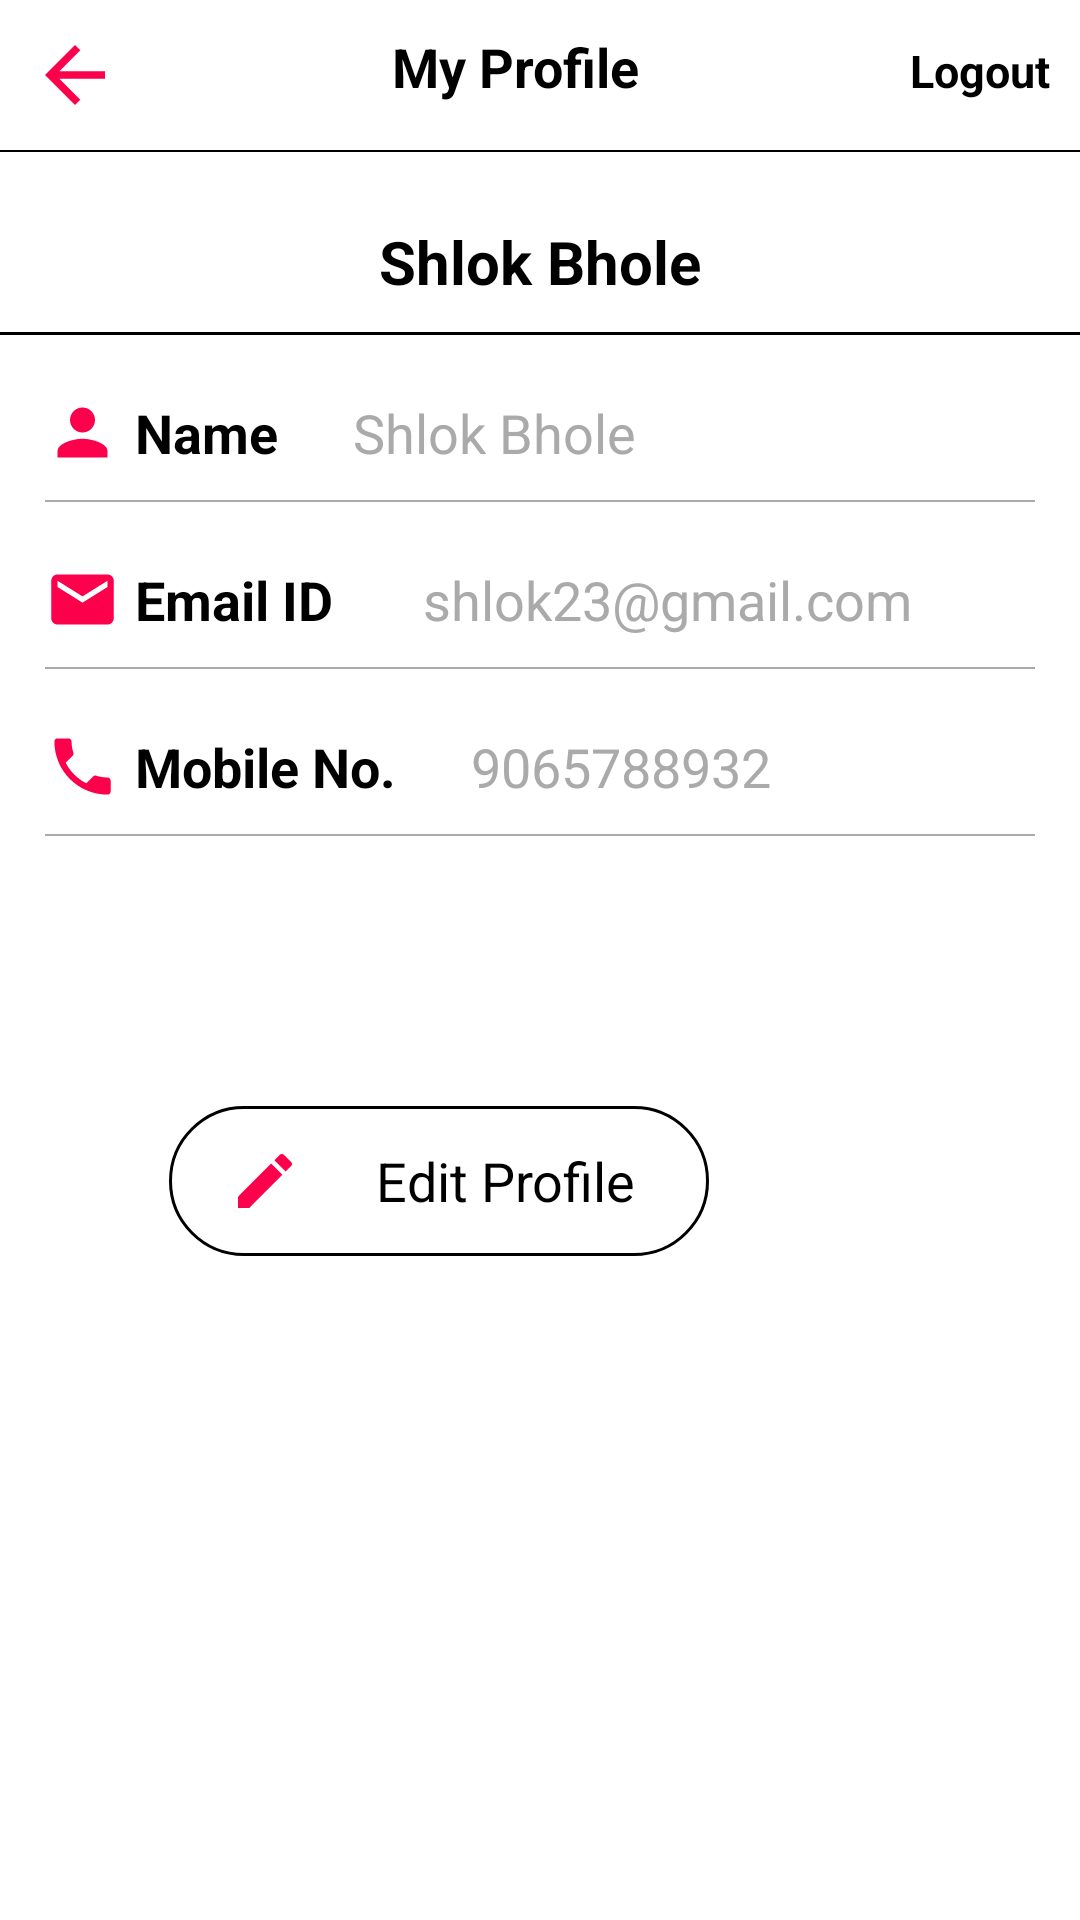

Icons on this 1080px×1920px Android screen, each with its box as bbox=[x1, y1, x2, y2]:
arrow: bbox=[45, 45, 105, 105]
person: bbox=[57, 407, 108, 458]
phone: bbox=[54, 738, 111, 795]
